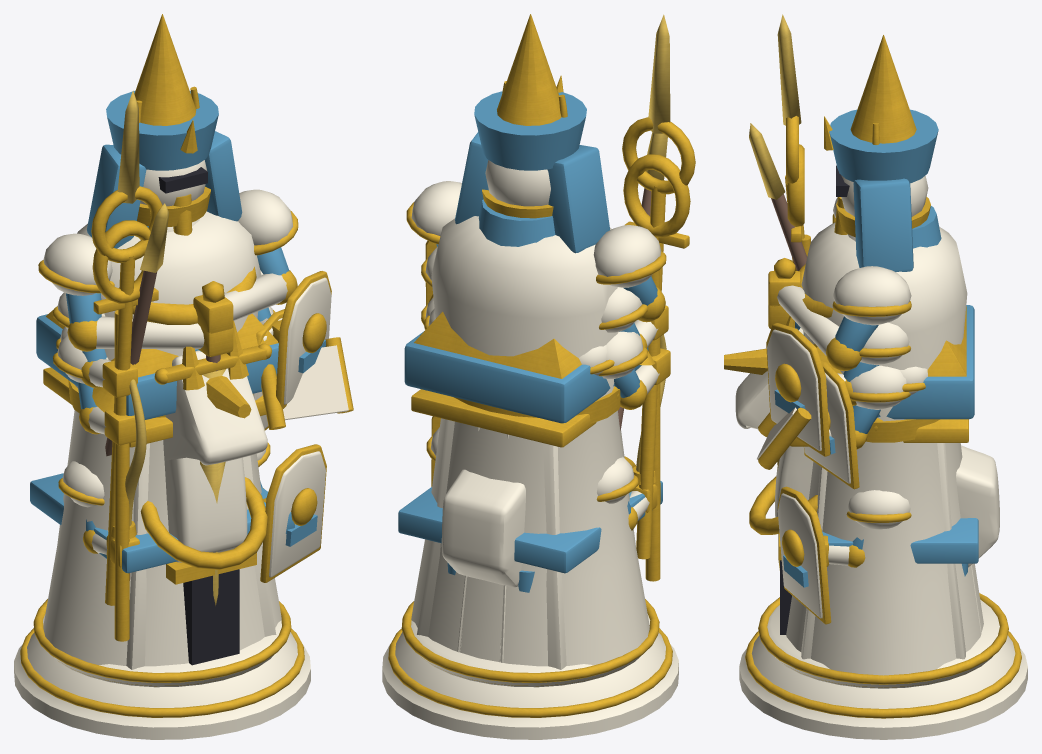
File: pharaoh_white.glb
3 renders of one model, left to right at view 1: azimuth 30°, elevation 25°; view 2: azimuth 150°, elevation 25°; view 3: azimuth 270°, elevation 25°, orthographic. The views are drawn at different scales.
Parts seen in each view (by area): view 1: Mesh_Body_k, Plinth_k, Mesh_Body_n, Mesh_Head_k, Mesh_Body_r, Mesh_WeaponArm_k, Mesh_WeaponArm_q, Mesh_WeaponArm_b, Mesh_ShieldArm_p, Mesh_ShieldArm_k, Mesh_WeaponArm_r, Mesh_ShieldArm_q (+4 smaller); view 2: Mesh_Body_k, Plinth_k, Mesh_Head_k, Mesh_Body_r, Mesh_WeaponArm_r, Mesh_WeaponArm_q, Mesh_Body_n, Mesh_WeaponArm_b, Mesh_WeaponArm_k, Mesh_Head_q, Mesh_WeaponArm_p, Mesh_ShieldArm_k (+2 smaller); view 3: Mesh_Body_k, Plinth_k, Mesh_Head_k, Mesh_ShieldArm_p, Mesh_Body_n, Mesh_ShieldArm_k, Mesh_ShieldArm_q, Mesh_Body_r, Mesh_WeaponArm_r, Mesh_ShieldArm_b, Mesh_ShieldArm_n, Mesh_WeaponArm_q (+4 smaller).
Part boxes in pixels (left/top/right/bottom): Mesh_Body_k: left=43, top=211, right=281, bottom=666; Plinth_k: left=14, top=599, right=310, bottom=739; Mesh_Body_n: left=140, top=321, right=267, bottom=569; Mesh_Head_k: left=87, top=14, right=242, bottom=248; Mesh_Body_r: left=30, top=367, right=294, bottom=669; Mesh_WeaponArm_k: left=38, top=233, right=271, bottom=605; Mesh_WeaponArm_q: left=53, top=90, right=162, bottom=605; Mesh_WeaponArm_b: left=53, top=220, right=158, bottom=641; Mesh_ShieldArm_p: left=257, top=442, right=326, bottom=582; Mesh_ShieldArm_k: left=193, top=189, right=298, bottom=333; Mesh_WeaponArm_r: left=36, top=310, right=278, bottom=419; Mesh_ShieldArm_q: left=257, top=270, right=331, bottom=408; Mesh_Body_k: left=411, top=216, right=649, bottom=666; Plinth_k: left=382, top=599, right=678, bottom=739; Mesh_Head_k: left=455, top=14, right=609, bottom=253; Mesh_Body_r: left=398, top=389, right=662, bottom=669; Mesh_WeaponArm_r: left=404, top=311, right=648, bottom=423; Mesh_WeaponArm_q: left=599, top=14, right=695, bottom=559; Mesh_Body_n: left=441, top=456, right=635, bottom=592; Mesh_WeaponArm_b: left=599, top=154, right=690, bottom=581; Mesh_WeaponArm_k: left=593, top=225, right=666, bottom=322; Mesh_Head_q: left=478, top=81, right=567, bottom=246; Mesh_WeaponArm_p: left=596, top=334, right=666, bottom=530; Mesh_ShieldArm_k: left=406, top=181, right=461, bottom=246; Mesh_Body_k: left=786, top=222, right=983, bottom=675; Plinth_k: left=739, top=593, right=1027, bottom=739; Mesh_Head_k: left=824, top=35, right=938, bottom=271; Mesh_ShieldArm_p: left=777, top=486, right=911, bottom=624; Mesh_Body_n: left=735, top=316, right=999, bottom=576; Mesh_ShieldArm_k: left=768, top=266, right=911, bottom=370; Mesh_ShieldArm_q: left=766, top=322, right=910, bottom=456; Mesh_Body_r: left=779, top=419, right=978, bottom=659; Mesh_WeaponArm_r: left=724, top=305, right=974, bottom=419; Mesh_ShieldArm_b: left=757, top=365, right=910, bottom=469; Mesh_ShieldArm_n: left=804, top=360, right=927, bottom=489; Mesh_WeaponArm_q: left=777, top=14, right=804, bottom=270.
Size of the model in its own units: 0.7841 by 1.87 by 0.8.
Materials: 7 (2 with a texture image).
